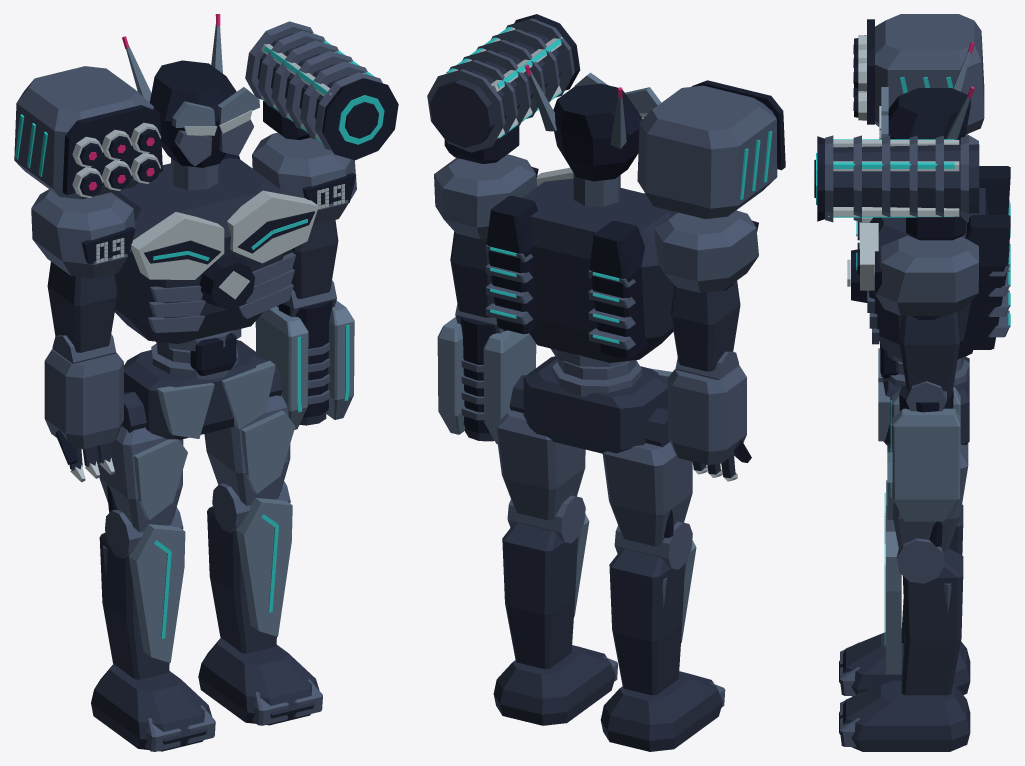
Rendered from siege-walker-cyber.glb.
The picture shows the model from 3 angles, left to right: view 1: azimuth 30°, elevation 25°; view 2: azimuth 150°, elevation 25°; view 3: azimuth 270°, elevation 25°; orthographic projection. The views are drawn at different scales.
Visible parts, largest first — view 1: chest, rocket_pod, plasma_cannon, upperarm_l, shin_l, shin_r, head, forearm_r, pelvis, forearm_l, upperarm_r, foot_r (+8 smaller); view 2: chest, rocket_pod, plasma_cannon, upperarm_l, shin_r, shin_l, head, forearm_r, pelvis, upperarm_r, forearm_l, thigh_l (+7 smaller); view 3: plasma_cannon, upperarm_r, shin_r, chest, rocket_pod, forearm_r, foot_r, head, foot_l, thigh_r, pelvis, waist (+2 smaller).
Boxes of the visible parts, x1,y1,x2,y2 form: chest: (112, 153, 318, 343); rocket_pod: (14, 66, 162, 199); plasma_cannon: (245, 21, 398, 160); upperarm_l: (31, 189, 135, 352); shin_l: (99, 507, 185, 679); shin_r: (207, 481, 292, 653); head: (126, 22, 259, 190); forearm_r: (255, 280, 354, 429); pelvis: (124, 340, 275, 439); forearm_l: (44, 334, 123, 482); upperarm_r: (252, 132, 356, 298); foot_r: (198, 638, 322, 725); chest: (485, 167, 675, 362); rocket_pod: (637, 80, 785, 218); plasma_cannon: (427, 14, 580, 163); upperarm_l: (654, 210, 758, 371); shin_r: (502, 495, 589, 669); shin_l: (609, 521, 696, 695); head: (528, 71, 661, 206); forearm_r: (437, 304, 536, 444); pelvis: (523, 356, 672, 453); upperarm_r: (434, 154, 538, 317); forearm_l: (667, 351, 751, 481); thigh_l: (602, 408, 692, 546); plasma_cannon: (814, 135, 979, 240); upperarm_r: (874, 235, 978, 391); shin_r: (886, 531, 963, 695); chest: (851, 166, 1010, 359); rocket_pod: (854, 14, 984, 134); forearm_r: (892, 381, 960, 521); foot_r: (839, 680, 970, 751); head: (881, 51, 970, 144); foot_l: (839, 632, 970, 696); thigh_r: (887, 443, 968, 551); pelvis: (878, 348, 969, 448); waist: (880, 342, 969, 387).
Bounding box in the file's own units: 10.13 × 20.59 × 5.69.
